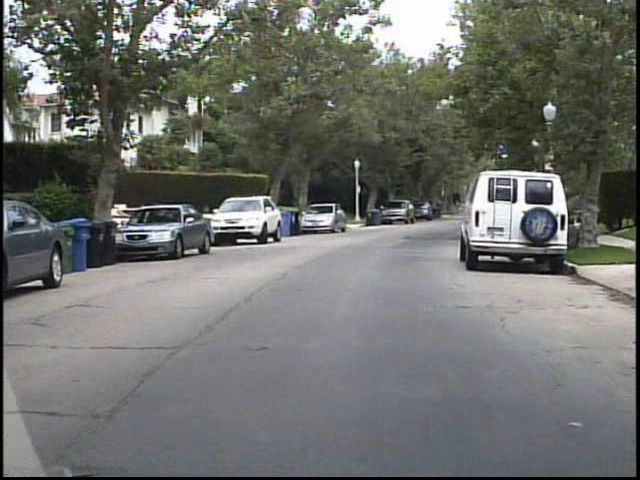person: (563, 217, 585, 254)
